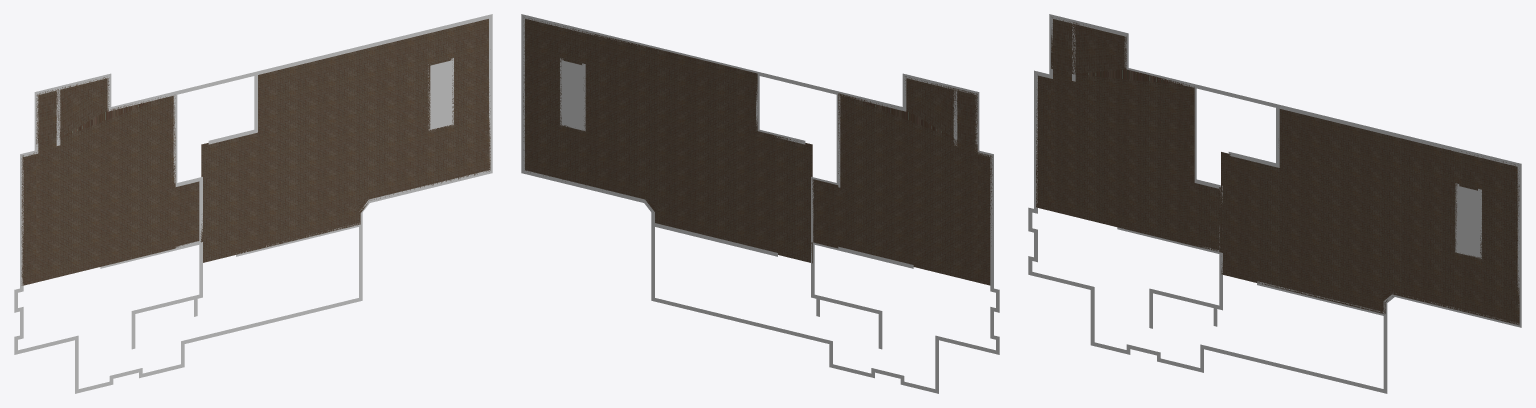
File: facility_basement.FBX
3 views of the same model, side by side, from view 1: azimuth 30°, elevation 25°; view 2: azimuth 150°, elevation 25°; view 3: azimuth 330°, elevation 25° (orthographic). The views are drawn at different scales.
Parts seen in each view (by area): view 1: facility_basement_f_floor, facility_basement_kitchen_storage_floor, facility_basement_walls, facility_basement_f_stairs_floor, facility_basement_kitchen_stairs_floor; view 2: facility_basement_f_floor, facility_basement_kitchen_storage_floor, facility_basement_walls, facility_basement_f_stairs_floor, facility_basement_kitchen_stairs_floor; view 3: facility_basement_f_floor, facility_basement_kitchen_storage_floor, facility_basement_walls, facility_basement_f_stairs_floor, facility_basement_kitchen_stairs_floor.
Part boxes in pixels (x1=…): facility_basement_f_floor: x1=201, y1=19, x2=490, y2=262; facility_basement_kitchen_storage_floor: x1=21, y1=77, x2=201, y2=285; facility_basement_walls: x1=14, y1=14, x2=492, y2=393; facility_basement_f_stairs_floor: x1=430, y1=60, x2=452, y2=129; facility_basement_kitchen_stairs_floor: x1=36, y1=89, x2=58, y2=144; facility_basement_f_floor: x1=523, y1=17, x2=812, y2=263; facility_basement_kitchen_storage_floor: x1=812, y1=76, x2=992, y2=285; facility_basement_walls: x1=521, y1=14, x2=999, y2=393; facility_basement_f_stairs_floor: x1=561, y1=60, x2=583, y2=126; facility_basement_kitchen_stairs_floor: x1=955, y1=88, x2=977, y2=143; facility_basement_f_floor: x1=1221, y1=109, x2=1519, y2=325; facility_basement_kitchen_storage_floor: x1=1036, y1=22, x2=1220, y2=252; facility_basement_walls: x1=1028, y1=14, x2=1521, y2=393; facility_basement_f_stairs_floor: x1=1457, y1=186, x2=1479, y2=257; facility_basement_kitchen_stairs_floor: x1=1051, y1=17, x2=1073, y2=74.
Size of the model in its own units: 2610 by 1625 by 0.000329.
1 material, 1 textured.
